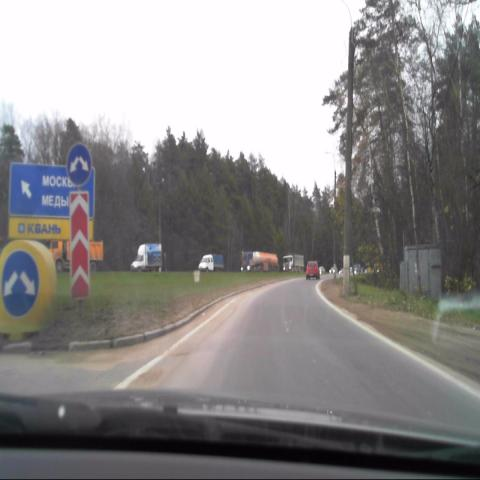4_2_3: (66, 141, 90, 187)
